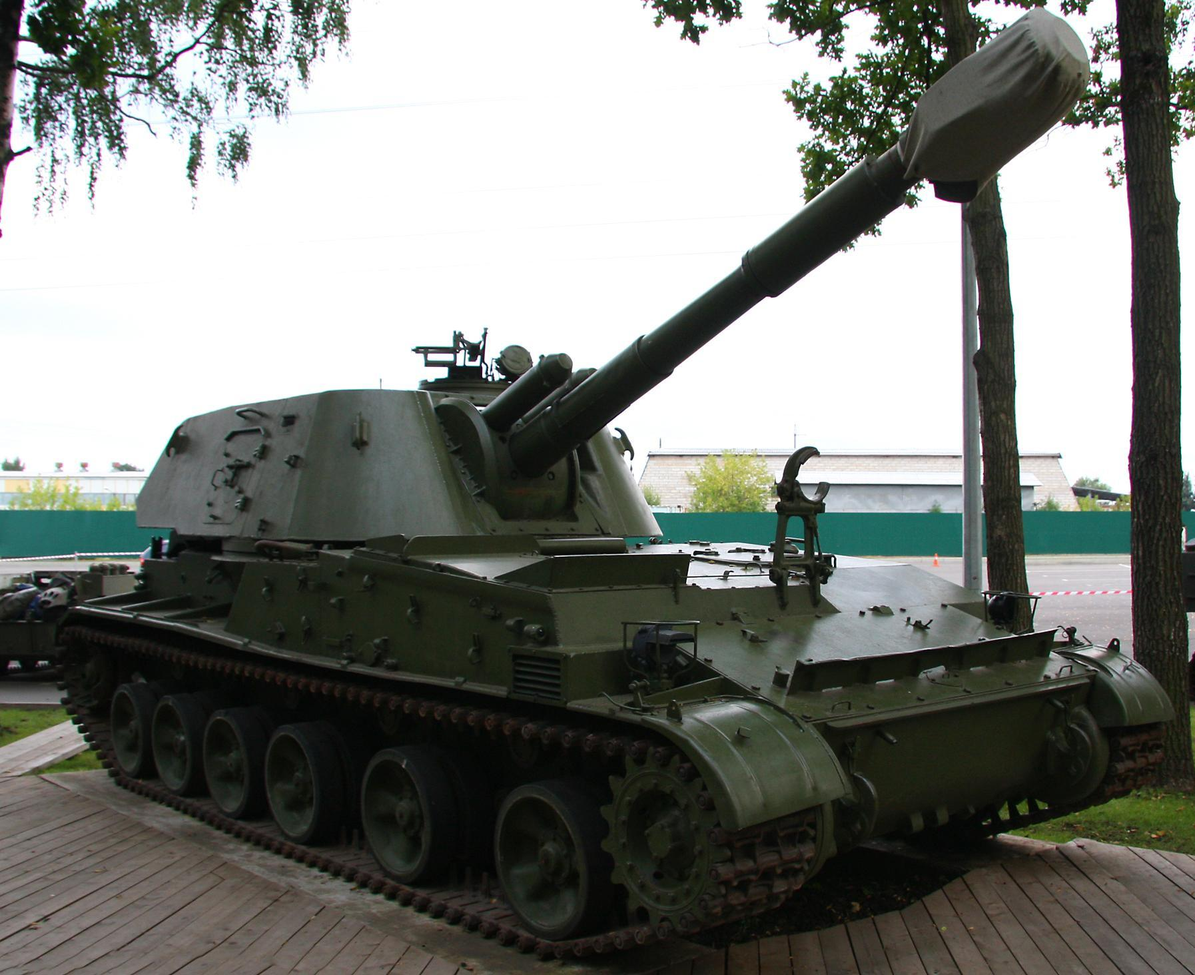sau: (57, 4, 1195, 960)
